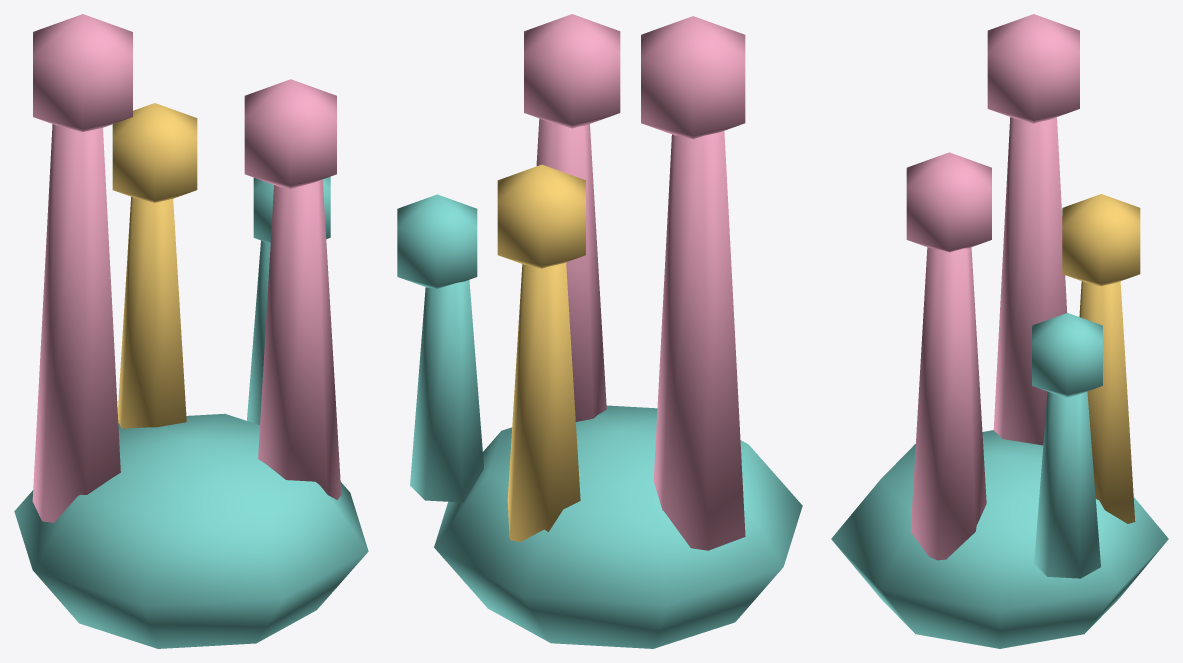
File: xy_beach_coral.glb
The picture shows the model from 3 angles, left to right: view 1: azimuth 30°, elevation 25°; view 2: azimuth 150°, elevation 25°; view 3: azimuth 270°, elevation 25°; orthographic projection. The views are drawn at different scales.
Visible parts, largest first — view 1: Coral; view 2: Coral; view 3: Coral.
Boxes of the visible parts, left/top/right/bottom form: Coral: left=14, top=14, right=368, bottom=648; Coral: left=397, top=14, right=802, bottom=648; Coral: left=831, top=14, right=1168, bottom=648.
Size of the model in its own units: 1.05 by 1.86 by 1.
